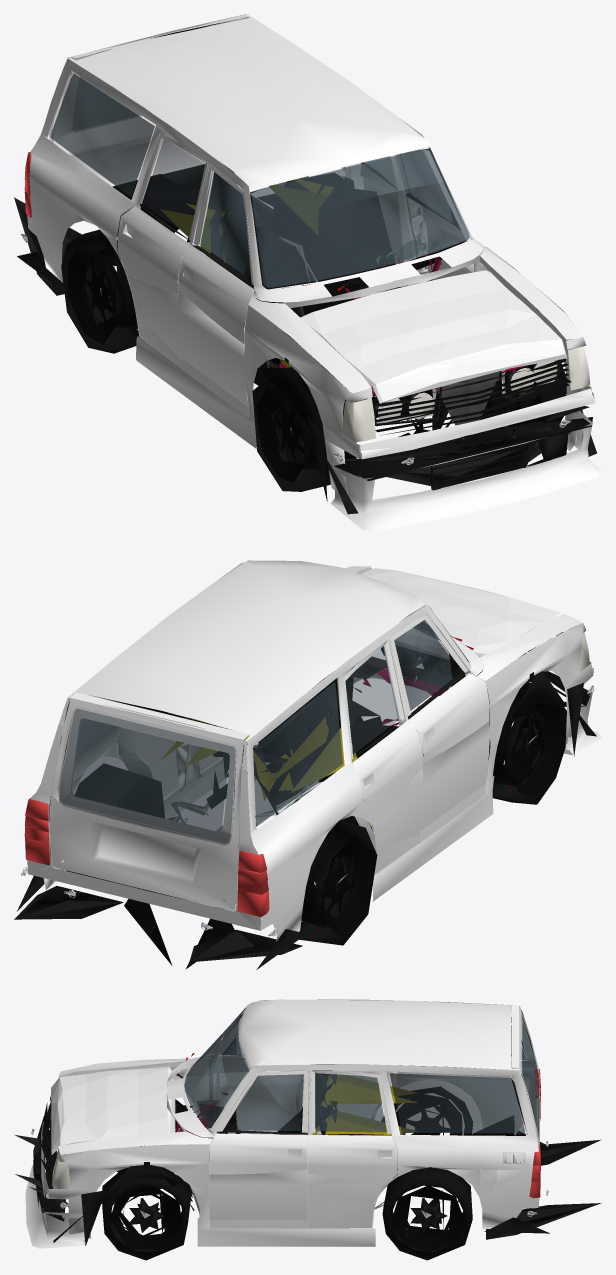
3 renders of one model, top to bottom at view 1: azimuth 30°, elevation 25°; view 2: azimuth 150°, elevation 25°; view 3: azimuth 270°, elevation 25°, orthographic. The views are drawn at different scales.
Visible parts, largest first — view 1: body_paint, body_details, glass, lamps_front; view 2: body_paint, body_details, glass, lamps_rear; view 3: body_paint, body_details, glass, lamps_rear, lamps_front.
Part boxes in pixels (box(x1,y1,x2,y2)): body_paint: box(27, 14, 601, 531); body_details: box(14, 20, 596, 514); glass: box(50, 73, 469, 287); lamps_front: box(342, 346, 589, 442); body_paint: box(27, 560, 601, 941); body_details: box(14, 605, 596, 969); glass: box(54, 605, 469, 843); lamps_rear: box(24, 798, 269, 916); body_paint: box(25, 999, 539, 1248); body_details: box(15, 1010, 601, 1260); glass: box(184, 1006, 538, 1135); lamps_rear: box(529, 1069, 540, 1198); lamps_front: box(52, 1154, 70, 1189).
Bounding box in the file's own units: 1.91 × 1.97 × 5.03.
5 materials, 1 textured.
